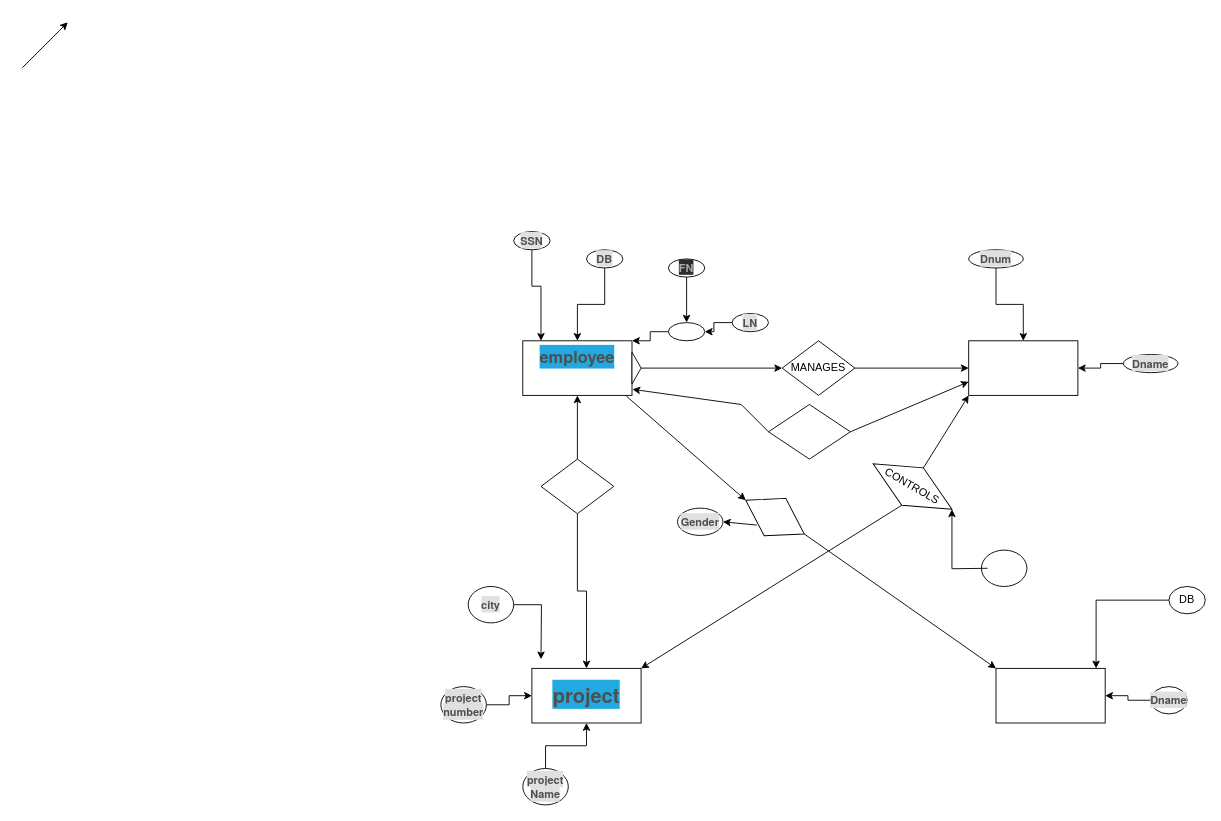
Image size: 1221x821. Some labels were removed from this diagram. The box of each missing label's shape, as (x1, y1, x2, y2) in pixels:
department: (968, 340, 1078, 395)
Dependent: (995, 667, 1105, 723)
HAS: (734, 480, 815, 553)
location: (981, 549, 1027, 586)
Name: (667, 322, 705, 341)
WORKS FOR: (768, 404, 850, 459)
WORKS_ON: (540, 458, 614, 514)
